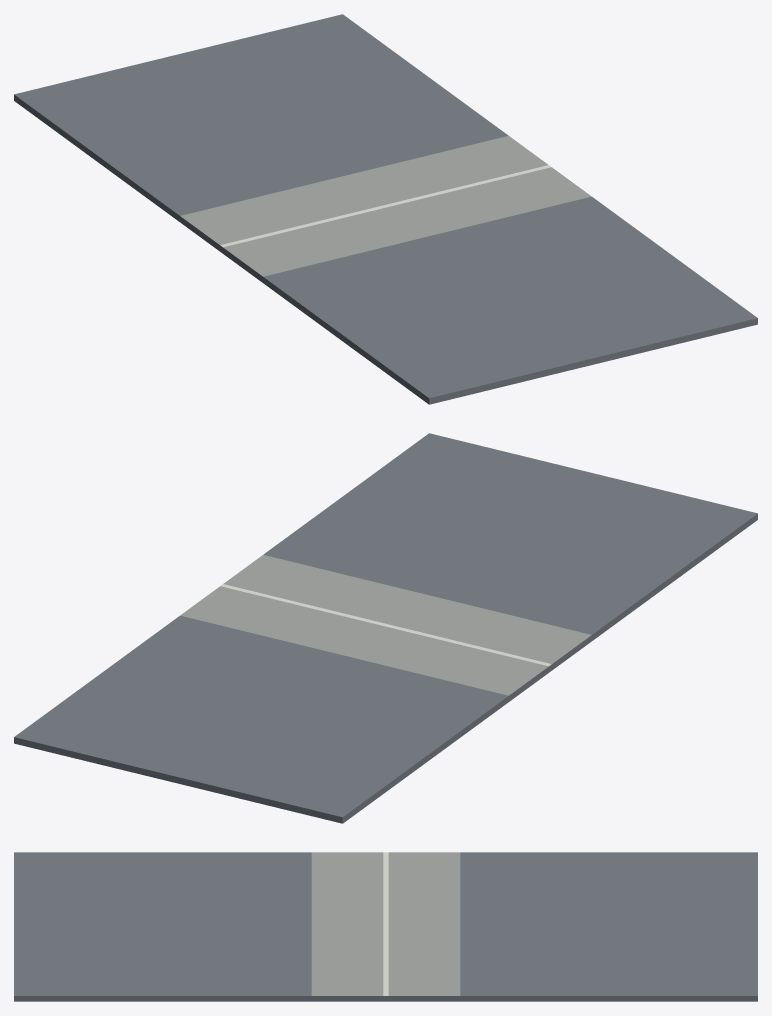
The model's file is SC_Floor64.glb.
The picture shows the model from 3 angles, top to bottom: view 1: azimuth 30°, elevation 25°; view 2: azimuth 150°, elevation 25°; view 3: azimuth 270°, elevation 25°; orthographic projection. The views are drawn at different scales.
Visible parts, largest first — view 1: SC_Floor64; view 2: SC_Floor64; view 3: SC_Floor64.
Part boxes in pixels (<box>): SC_Floor64: <box>14,14,757,404</box>; SC_Floor64: <box>14,433,757,823</box>; SC_Floor64: <box>14,852,757,1001</box>.
Size of the model in its own units: 64 by 1.22 by 140.
Materials: 1 (1 with a texture image).
